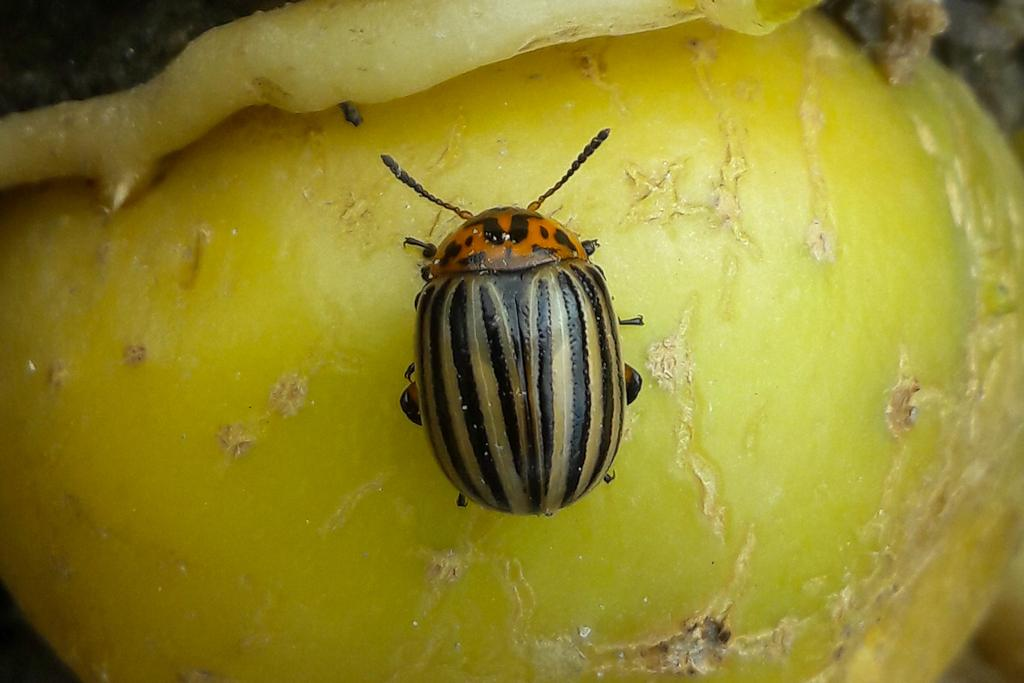potato_beetle: (323, 96, 704, 562)
